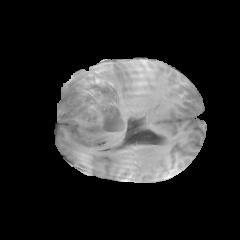glioma: (57, 60, 129, 149)
